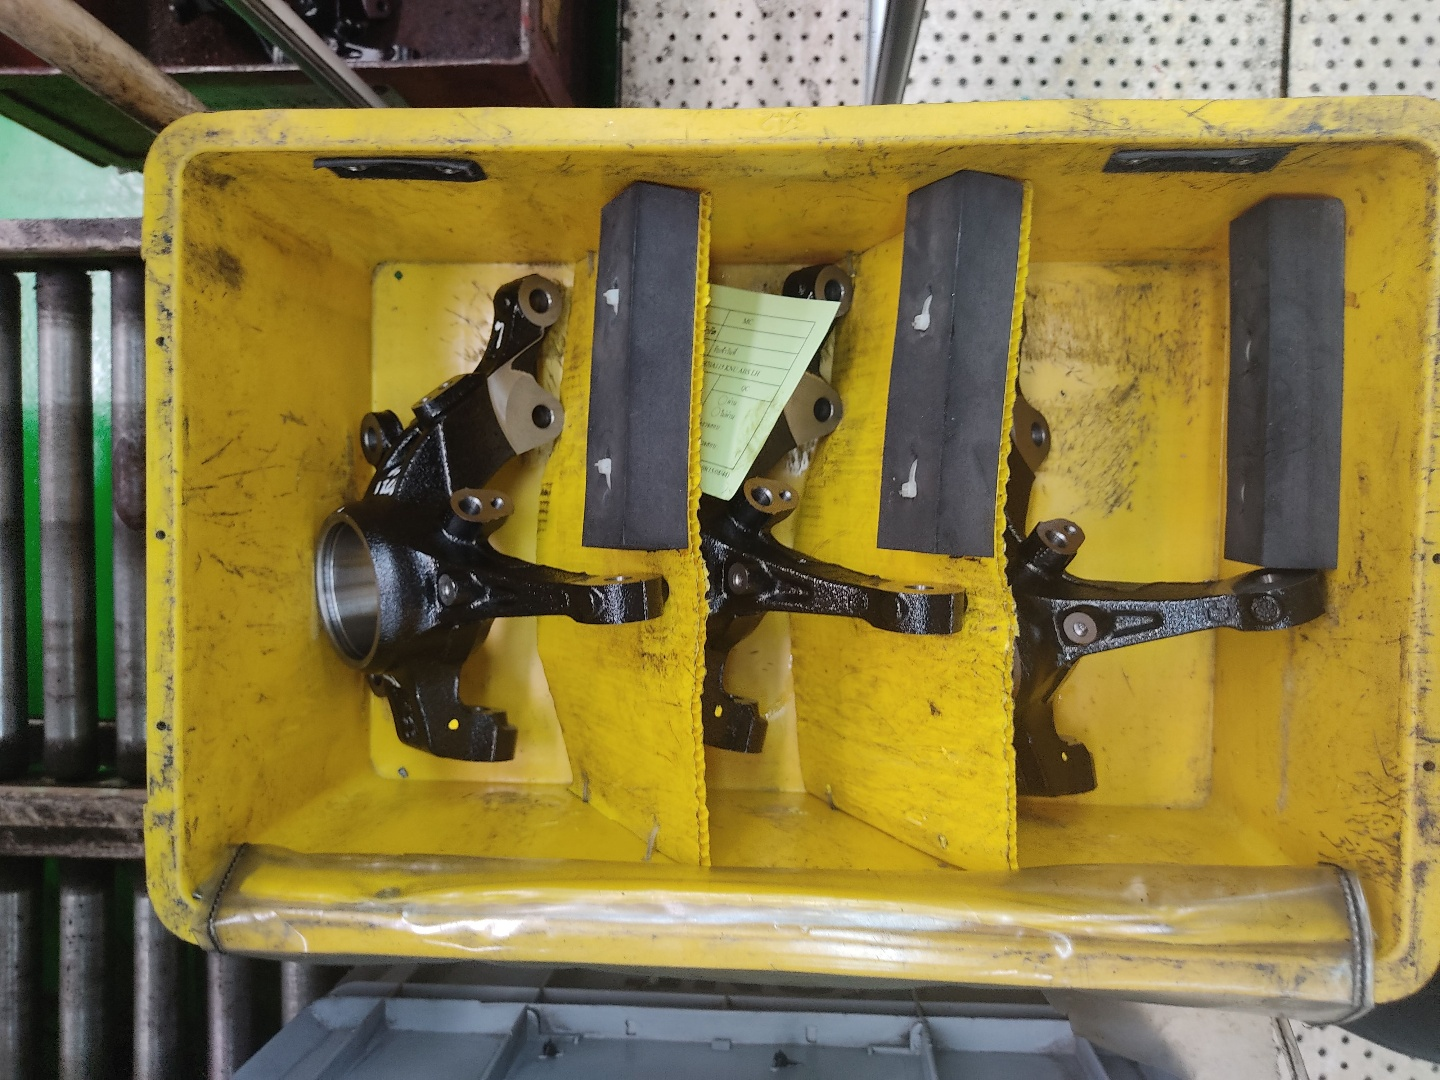abs-lh: (974, 275, 1346, 811), (304, 265, 672, 770), (681, 255, 972, 770)
